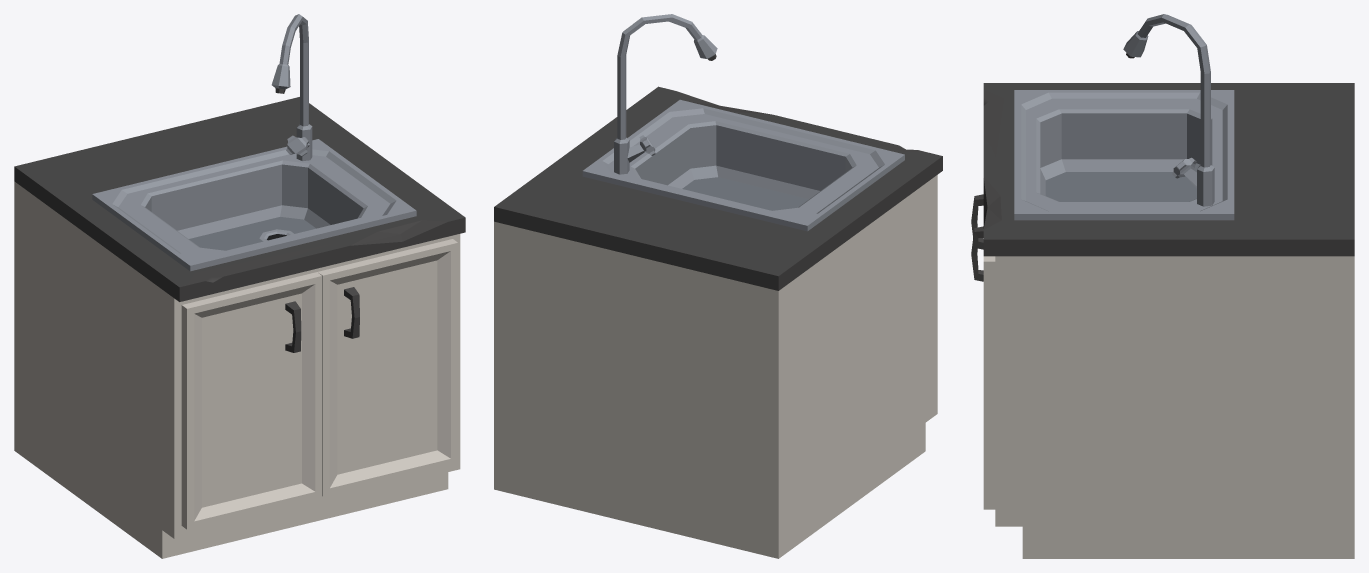
Rendered from SM_Prop_Kitchen_CounterSink_01.fbx.
3 views of the same model, side by side, from view 1: azimuth 30°, elevation 25°; view 2: azimuth 150°, elevation 25°; view 3: azimuth 270°, elevation 25° (orthographic). The views are drawn at different scales.
Visible parts, largest first — view 1: SM_Prop_Kitchen_CounterSink_01; view 2: SM_Prop_Kitchen_CounterSink_01; view 3: SM_Prop_Kitchen_CounterSink_01.
Boxes of the visible parts, bbox=[...] form: SM_Prop_Kitchen_CounterSink_01: bbox=[14, 14, 465, 558]; SM_Prop_Kitchen_CounterSink_01: bbox=[494, 14, 942, 558]; SM_Prop_Kitchen_CounterSink_01: bbox=[971, 14, 1354, 558].
Bounding box in the file's own units: 100 × 147 × 103.
